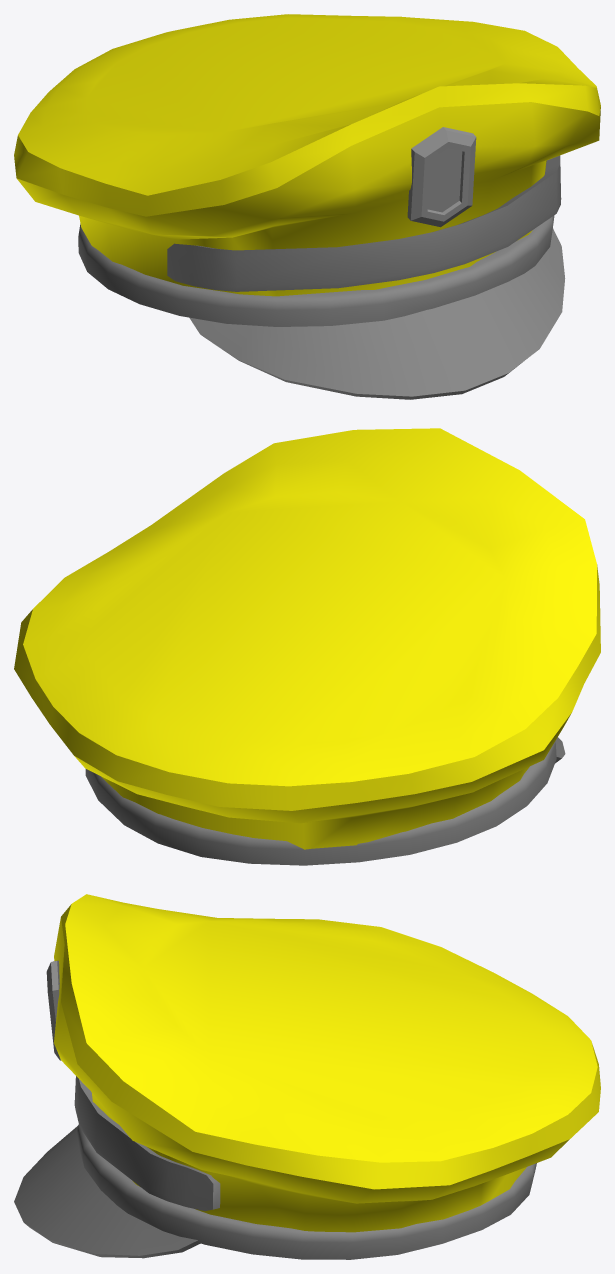
Rendered from Helmet_Security_guard_.fbx.
3 views of the same model, one above another, from view 1: azimuth 30°, elevation 25°; view 2: azimuth 150°, elevation 25°; view 3: azimuth 270°, elevation 25° (orthographic). The views are drawn at different scales.
Parts seen in each view (by area): view 1: Helmet_Security_Guard_; view 2: Helmet_Security_Guard_; view 3: Helmet_Security_Guard_.
Part boxes in pixels (box(x1,y1,x2,y2)): Helmet_Security_Guard_: box(14, 14, 600, 399); Helmet_Security_Guard_: box(14, 428, 600, 865); Helmet_Security_Guard_: box(14, 894, 600, 1259).
Bounding box in the file's own units: 528 × 278 × 523.
